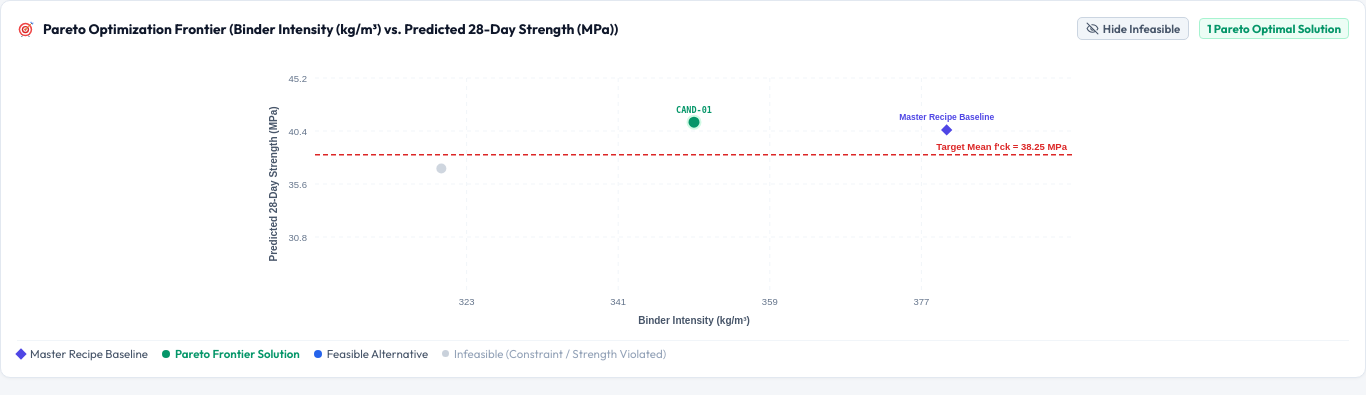
it: ParetoFrontierChart Component › toggles infeasible candidate visibility when toggle button is clicked
Click the button "Hide Infeasible" at (1133, 28), box [1077,17,1189,40]
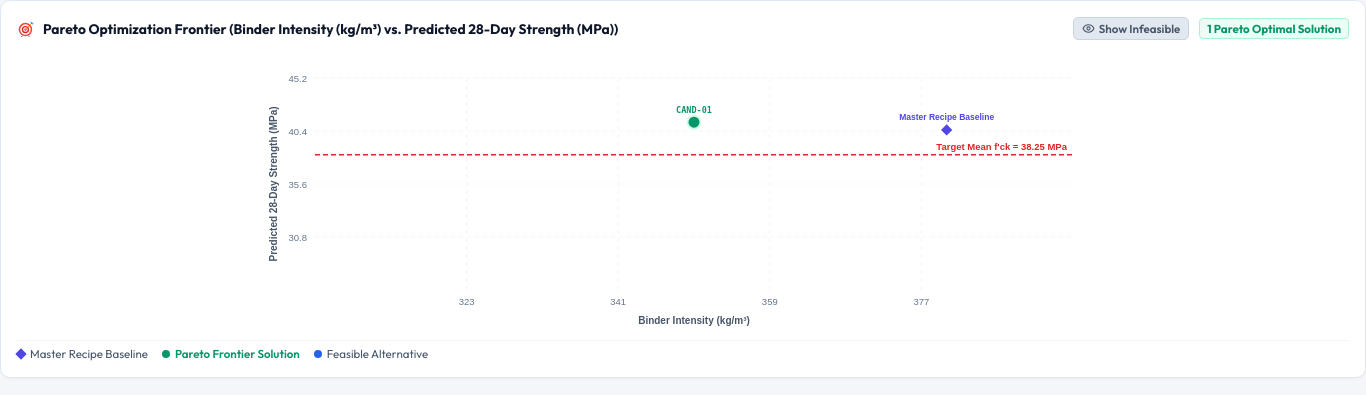
Now the button "Show Infeasible" is shown, box [1073,17,1189,40]
